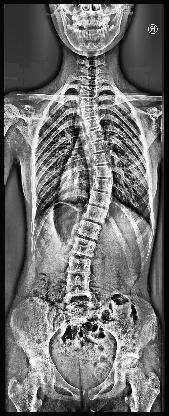Vertebrae: (62, 276, 95, 290), (62, 260, 94, 274), (74, 224, 105, 238), (68, 242, 97, 256), (79, 208, 109, 219), (85, 194, 111, 206), (89, 180, 115, 192), (90, 166, 116, 176), (86, 143, 112, 153), (90, 154, 114, 164), (76, 97, 100, 107), (78, 108, 100, 118), (78, 86, 100, 96), (82, 132, 108, 140), (76, 76, 102, 84), (81, 119, 103, 128)
